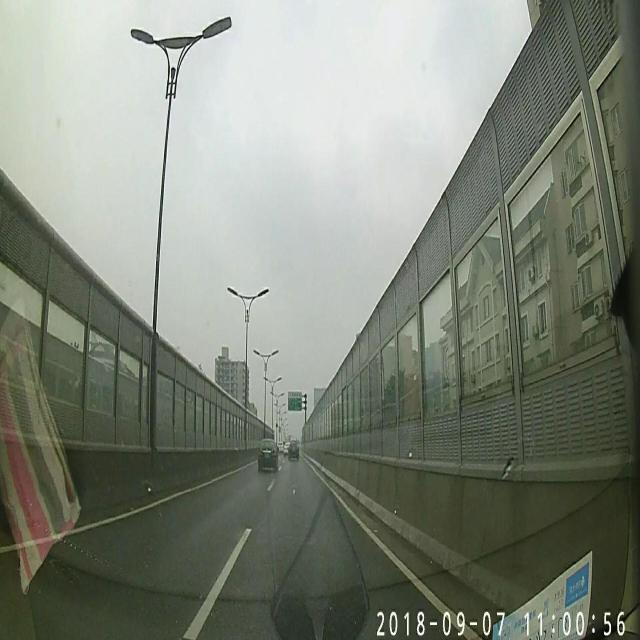car: (257, 438, 280, 465), (287, 441, 300, 454)
